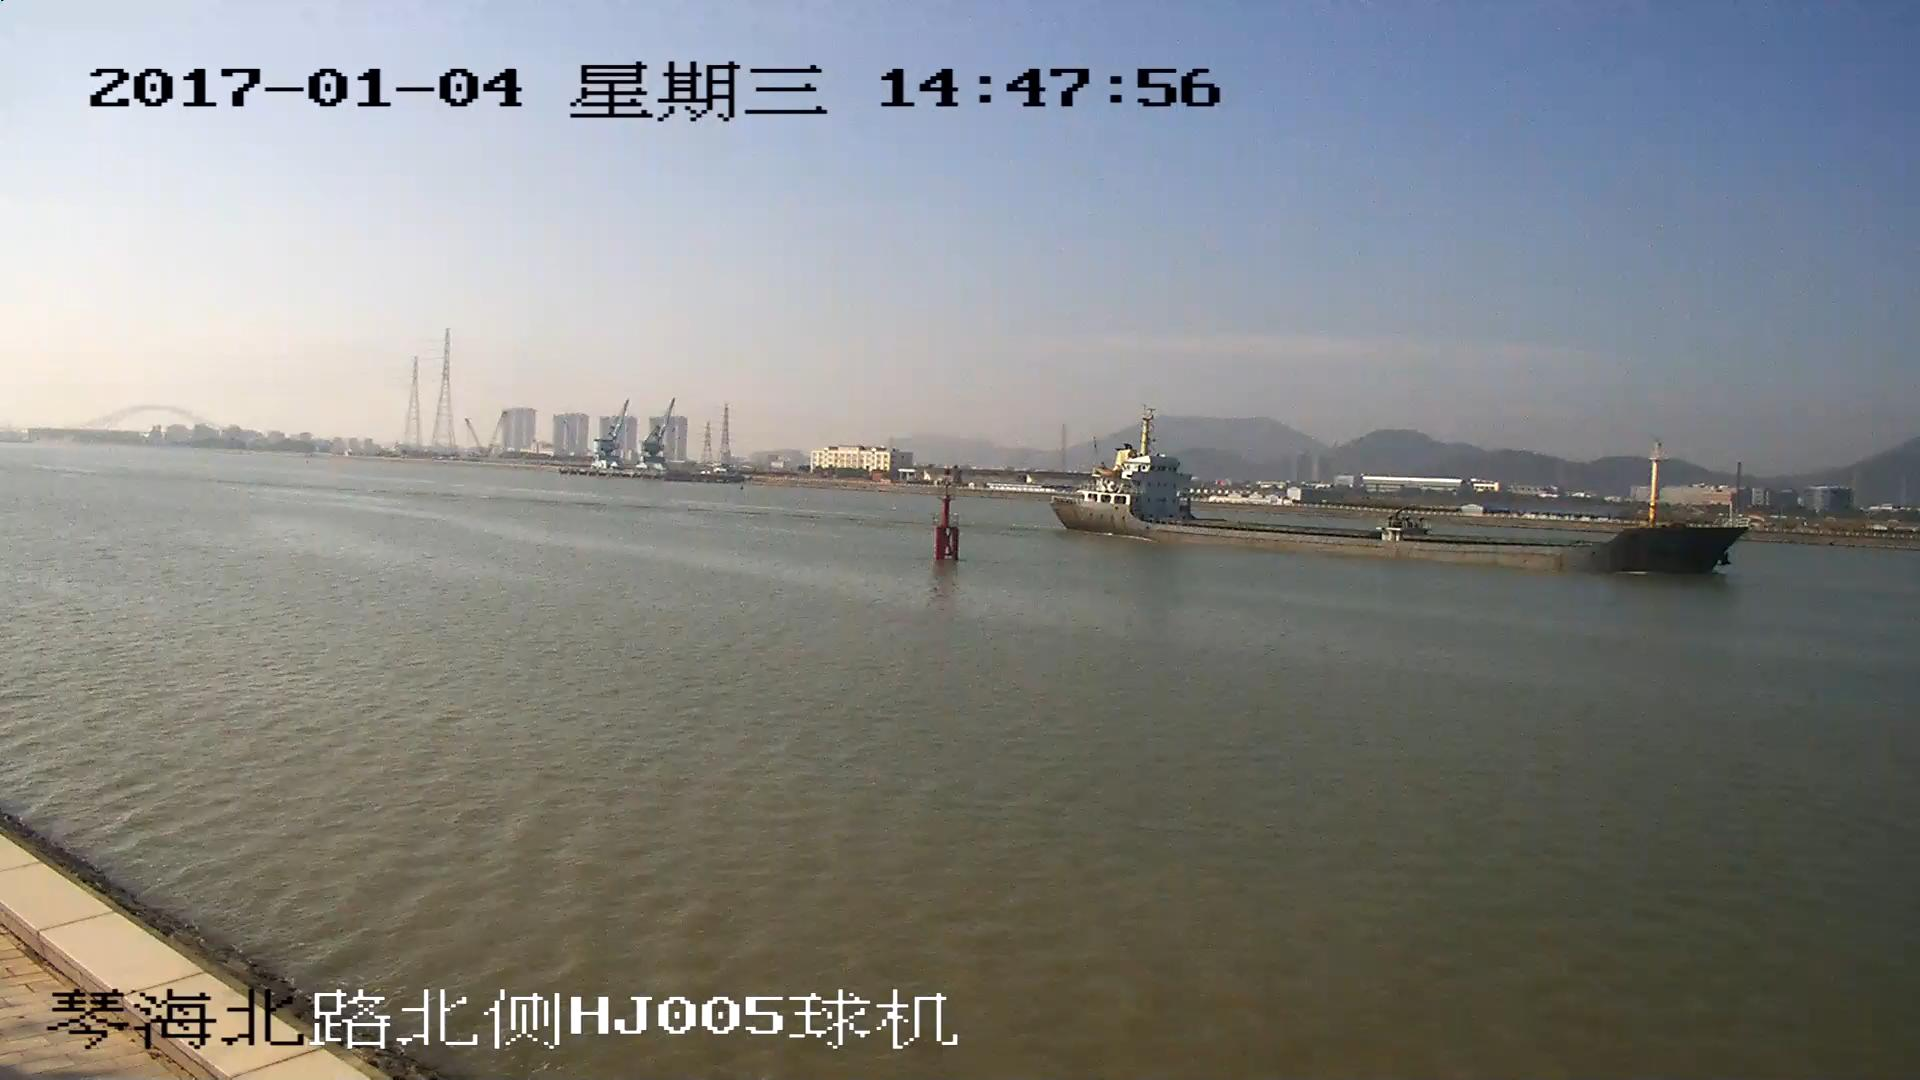general cargo ship: (1045, 428, 1749, 581)
